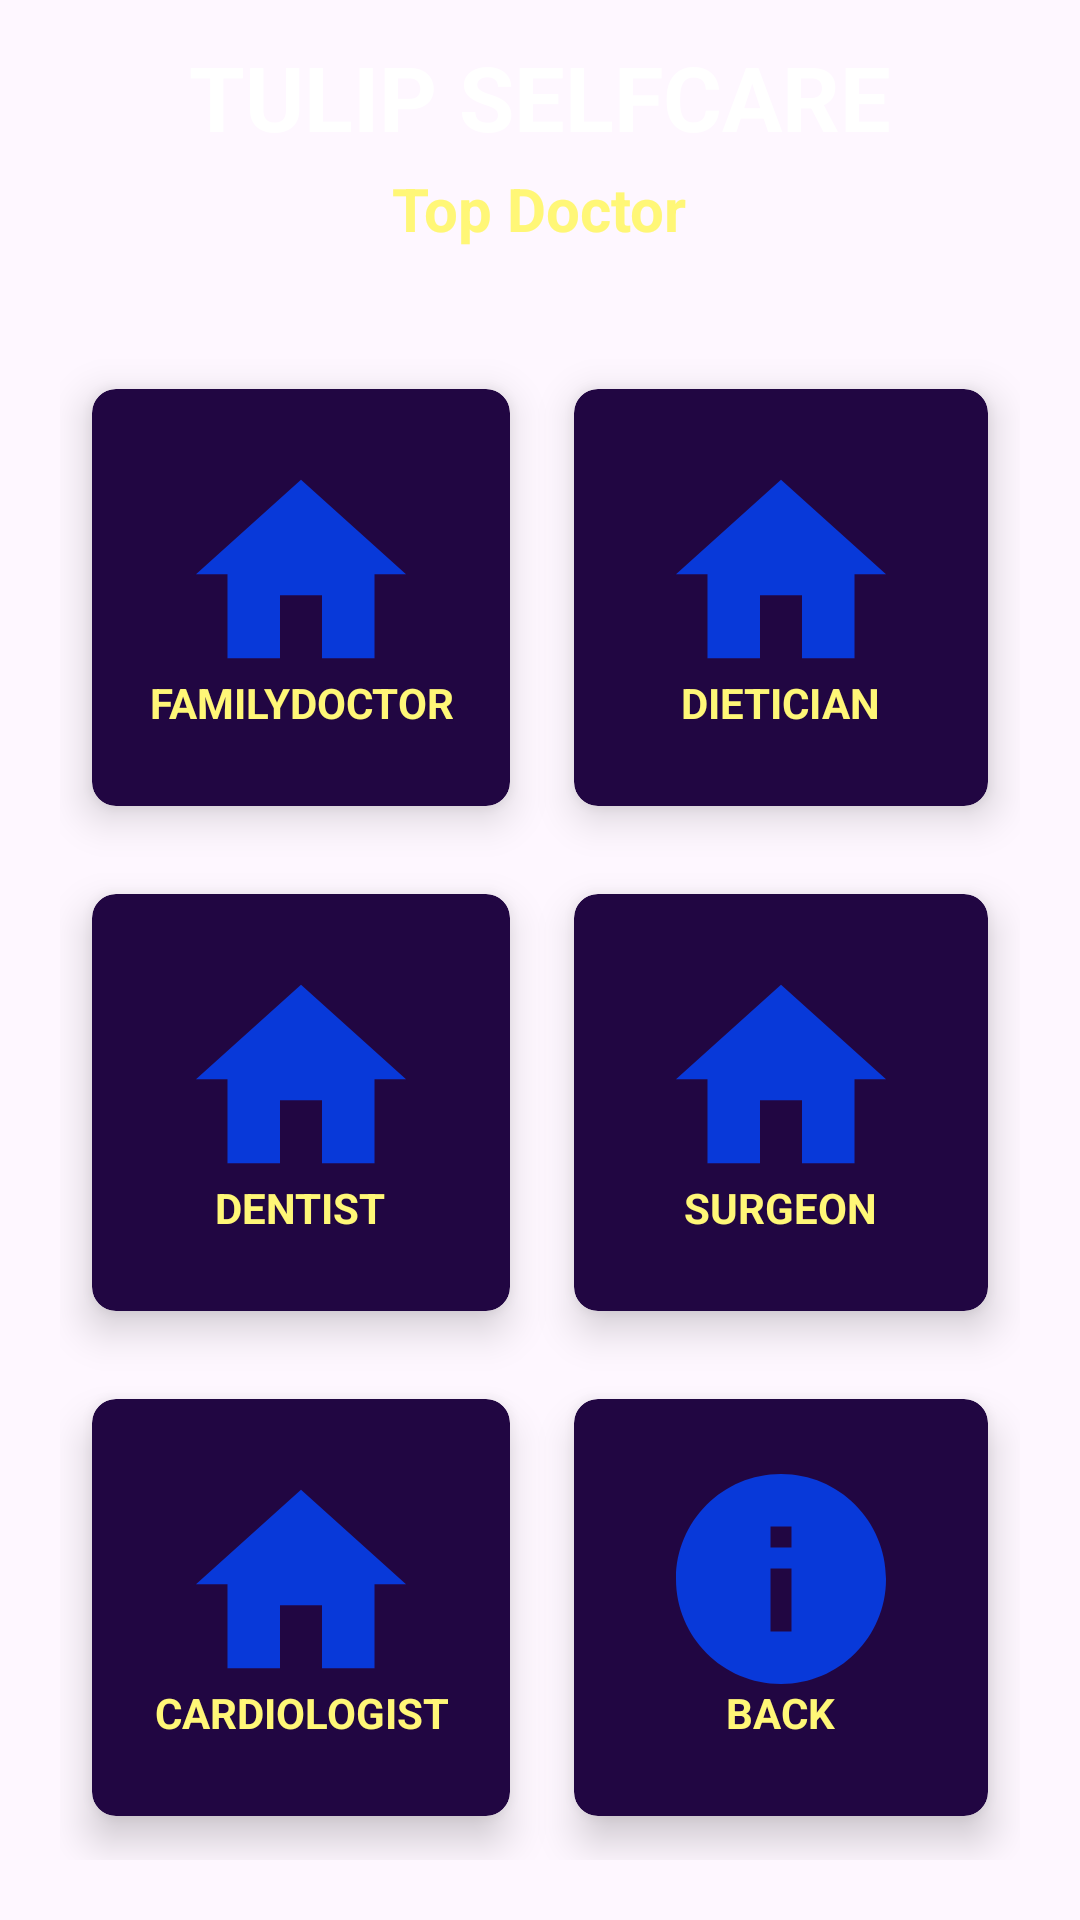

Where icons sit on this 1080 × 1920 app screen, as [x1=x1, y1=y1, x2=x2, y2=y2]:
home: [x1=196, y1=480, x2=406, y2=659], [x1=676, y1=480, x2=886, y2=659], [x1=196, y1=985, x2=406, y2=1164], [x1=676, y1=985, x2=886, y2=1164], [x1=196, y1=1490, x2=406, y2=1669]
info: [x1=676, y1=1474, x2=886, y2=1684]
